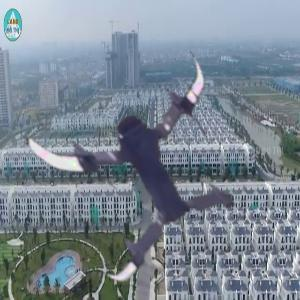drone: (32, 45, 251, 264)
